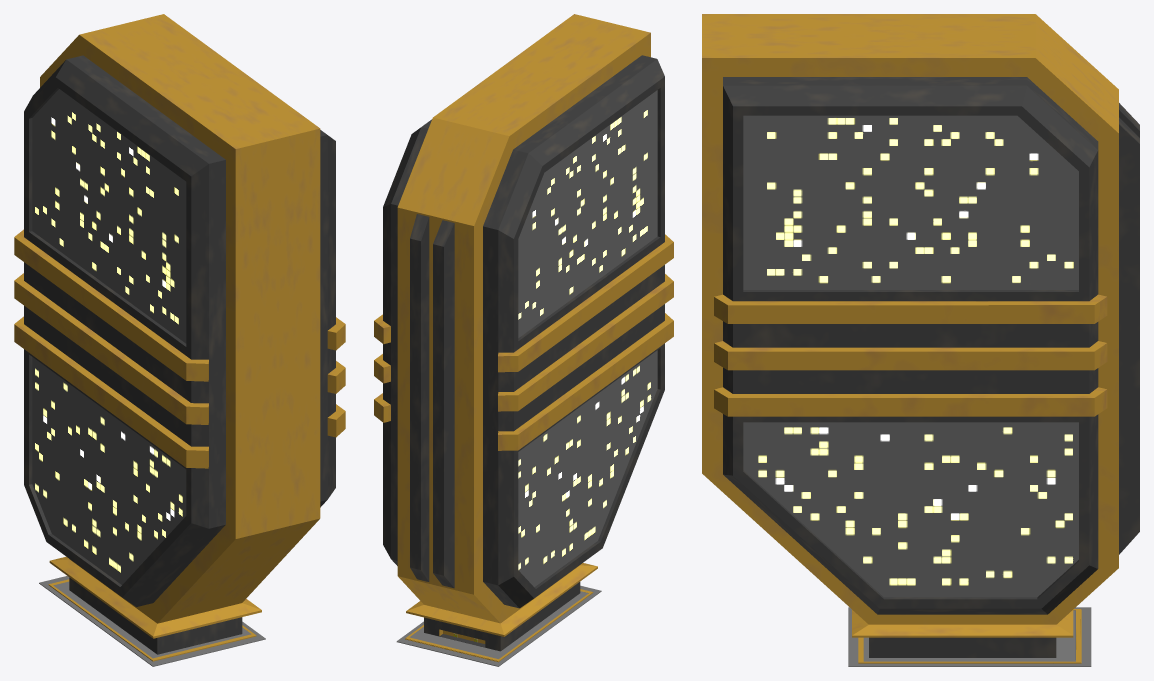
File: Bina 19.fbx
3 views of the same model, side by side, from view 1: azimuth 30°, elevation 25°; view 2: azimuth 150°, elevation 25°; view 3: azimuth 270°, elevation 25° (orthographic). The views are drawn at different scales.
Parts seen in each view (by area): view 1: Generator_2, GeneratorStand_2; view 2: Generator_2, GeneratorStand_2; view 3: Generator_2, GeneratorStand_2.
Part boxes in pixels (<box>): Generator_2: <box>14,14,345,654</box>; GeneratorStand_2: <box>39,576,265,666</box>; Generator_2: <box>374,14,673,651</box>; GeneratorStand_2: <box>396,585,601,666</box>; Generator_2: <box>702,14,1139,657</box>; GeneratorStand_2: <box>848,607,1091,666</box>.
Size of the model in its own units: 36.32 by 123 by 80.93.
Materials: 3 (3 with a texture image).
